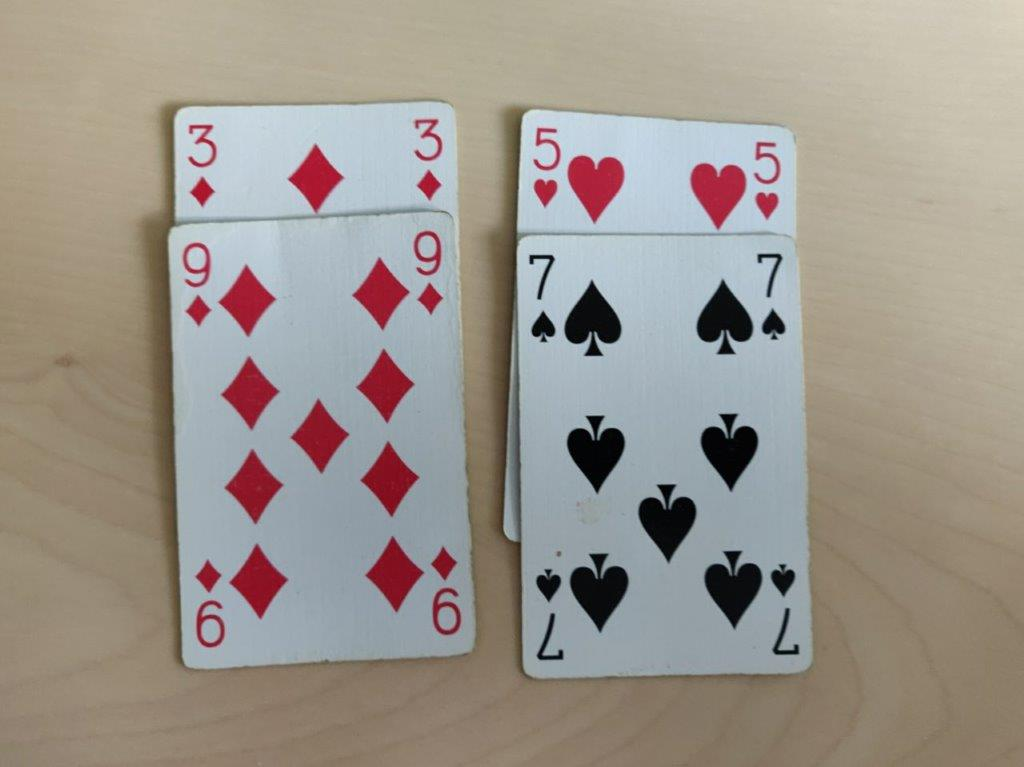3D: (184, 118, 219, 208), (411, 111, 446, 201)
5H: (531, 121, 566, 211), (749, 135, 784, 225)
7S: (523, 248, 559, 348), (753, 242, 789, 342)
9D: (179, 236, 215, 331), (412, 224, 448, 319)
